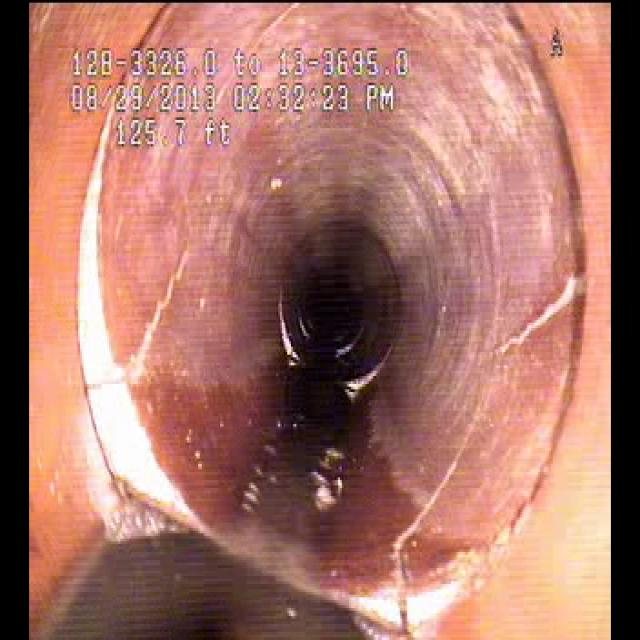Crack: (366, 245, 584, 590)
